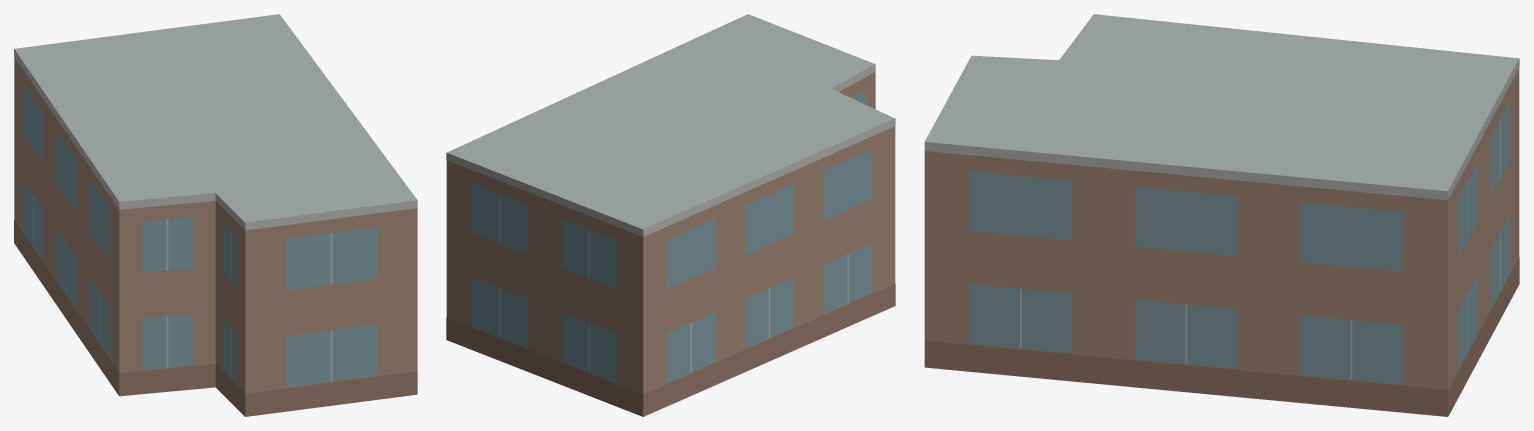
The model's file is survey-upis-32922086.glb.
The picture shows the model from 3 angles, left to right: view 1: azimuth 30°, elevation 25°; view 2: azimuth 150°, elevation 25°; view 3: azimuth 270°, elevation 25°; orthographic projection. The views are drawn at different scales.
Parts seen in each view (by area): view 1: survey-upis-32922086.tmp; view 2: survey-upis-32922086.tmp; view 3: survey-upis-32922086.tmp.
Boxes of the visible parts, bbox=[...] form: survey-upis-32922086.tmp: bbox=[14, 14, 417, 416]; survey-upis-32922086.tmp: bbox=[446, 14, 895, 416]; survey-upis-32922086.tmp: bbox=[924, 14, 1519, 416].
Bounding box in the file's own units: 10.29 × 6.1 × 14.59.
